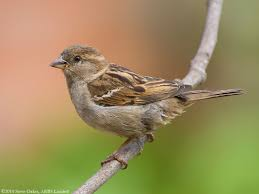hsparrow: (43, 42, 247, 172)
